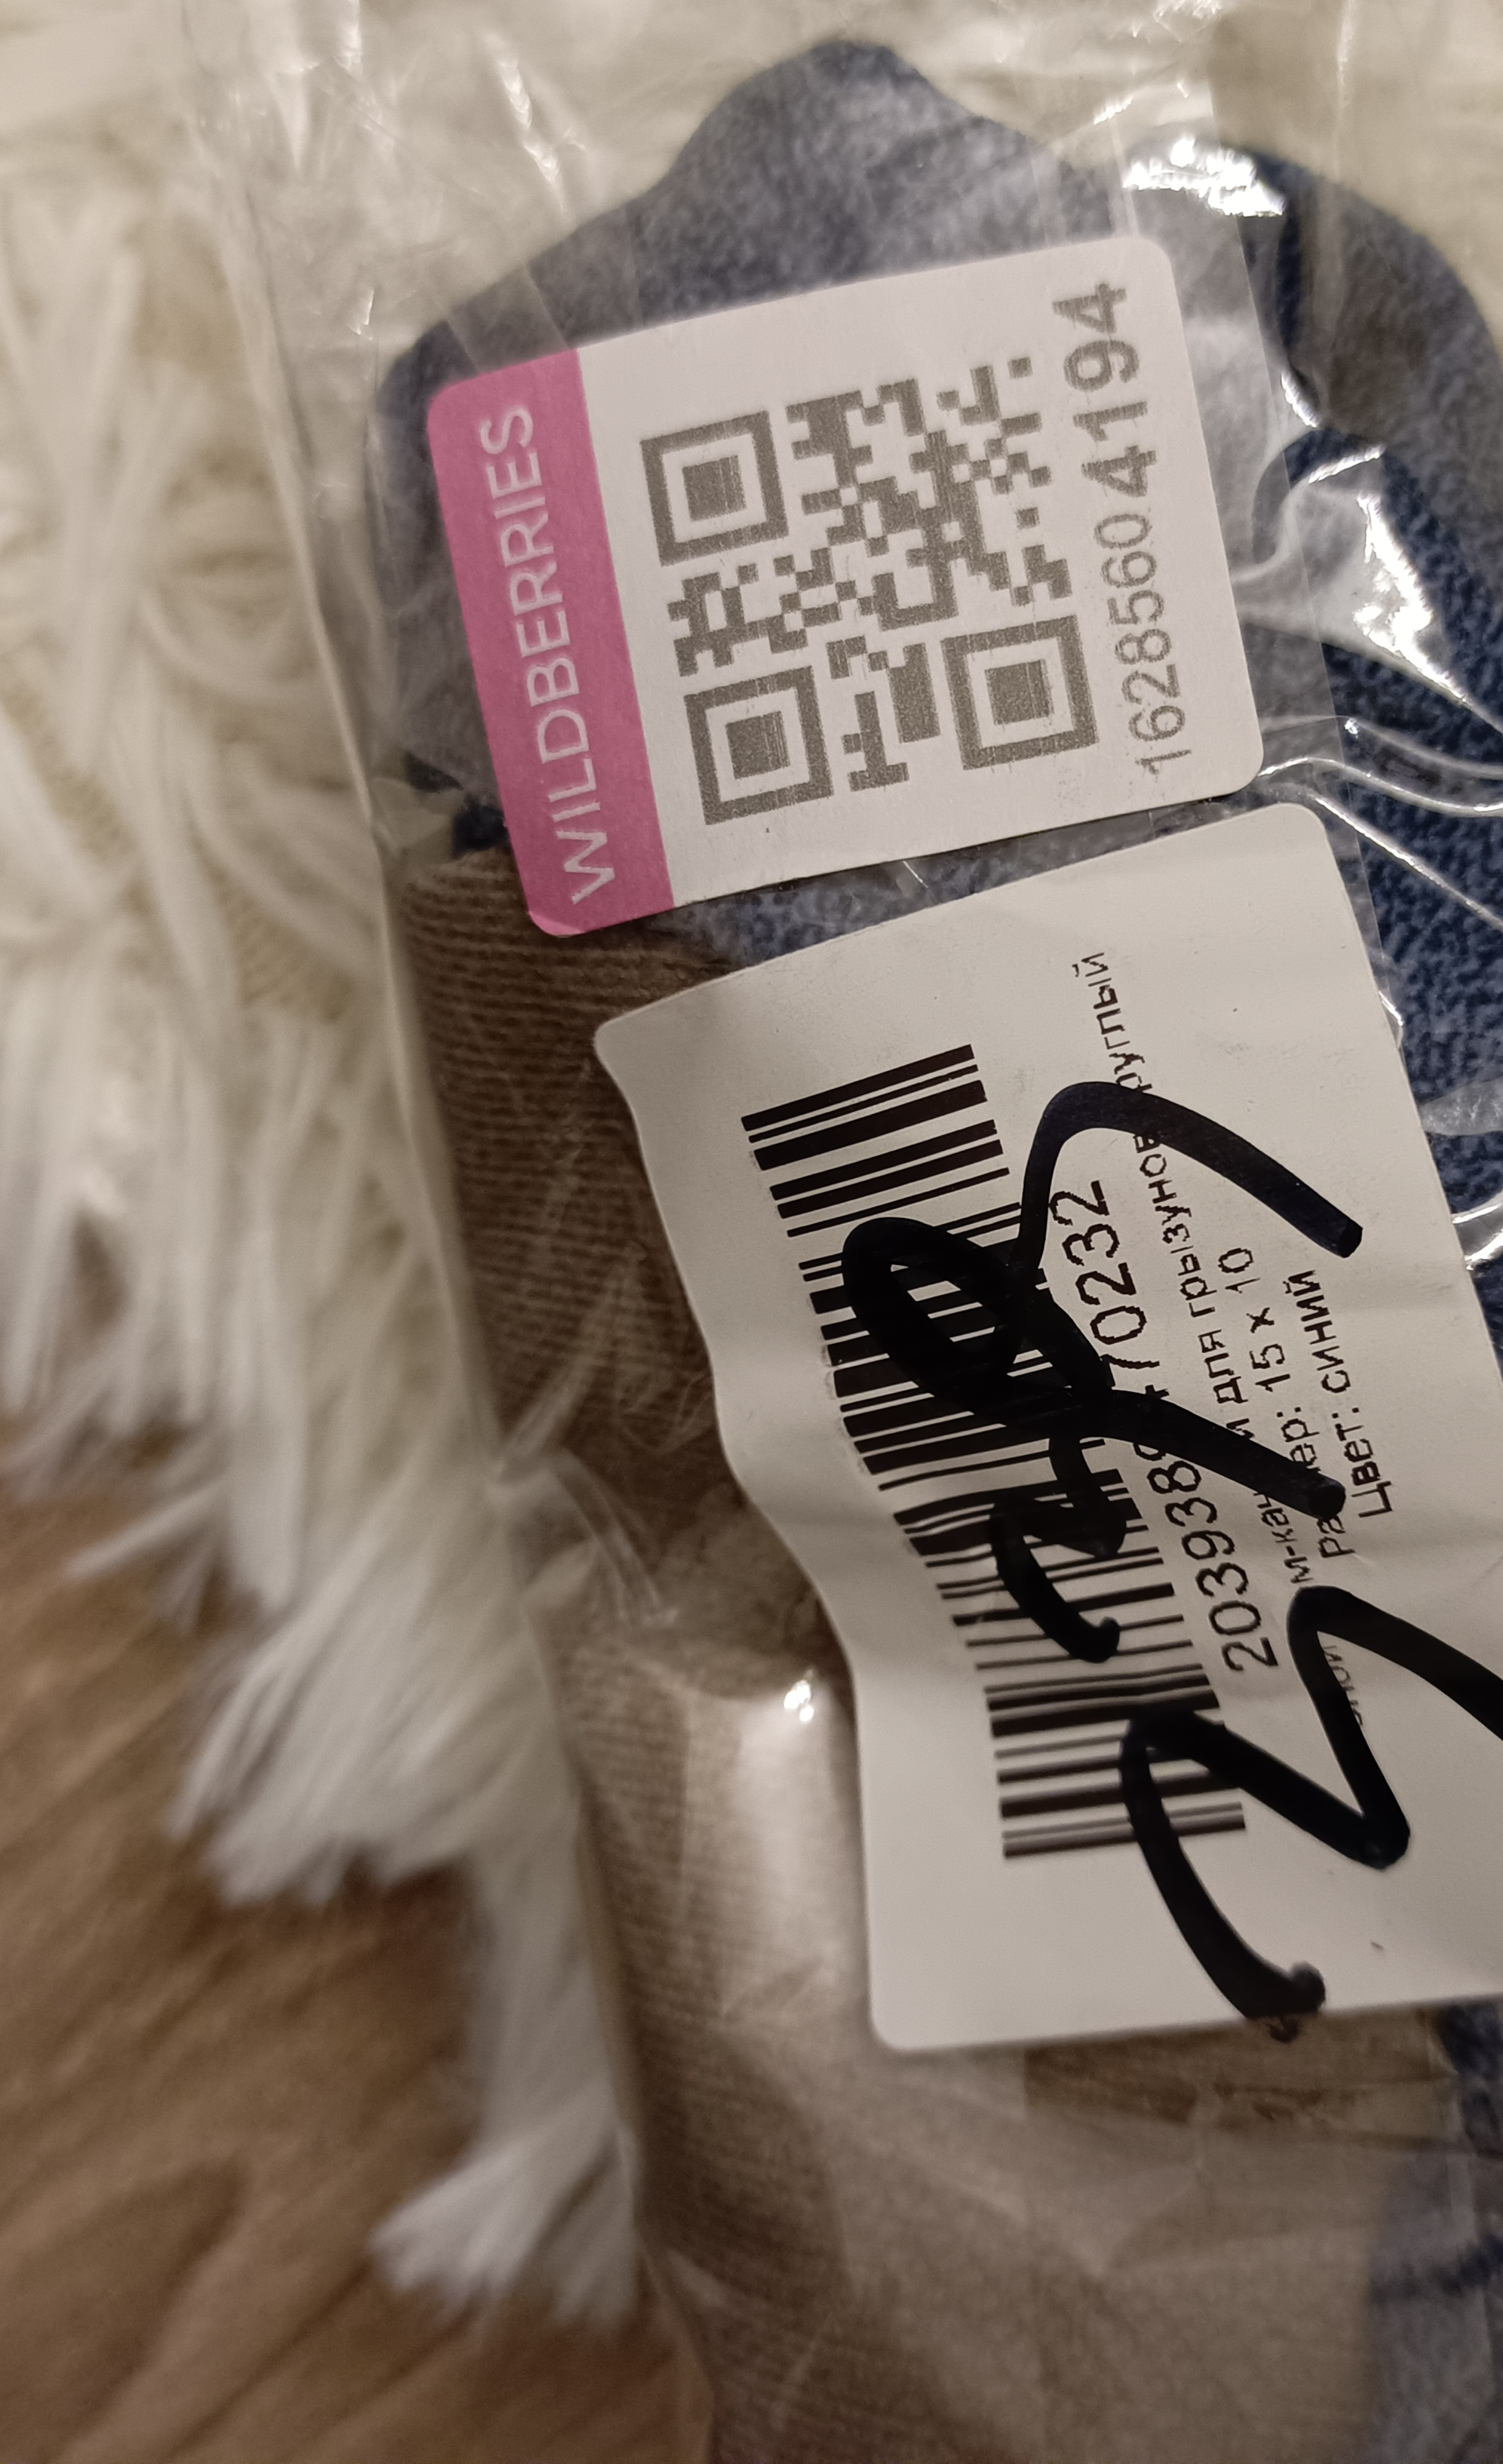1d: (739, 1040, 1244, 1864)
